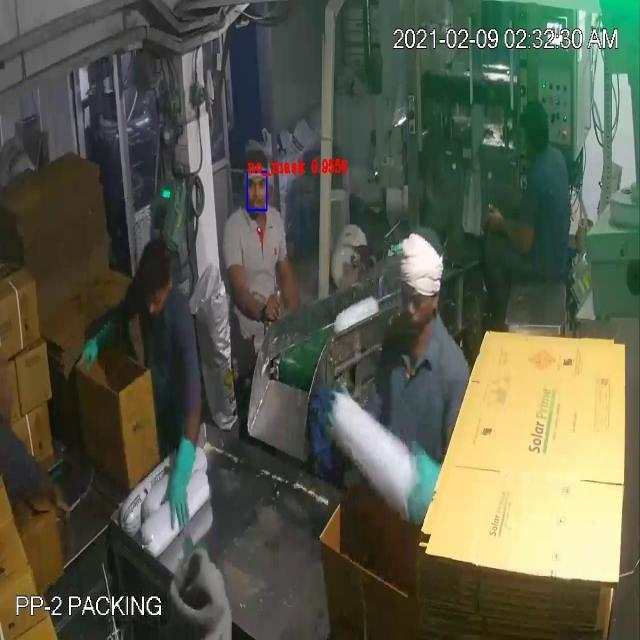No_Gloves: (37, 64, 511, 475)
